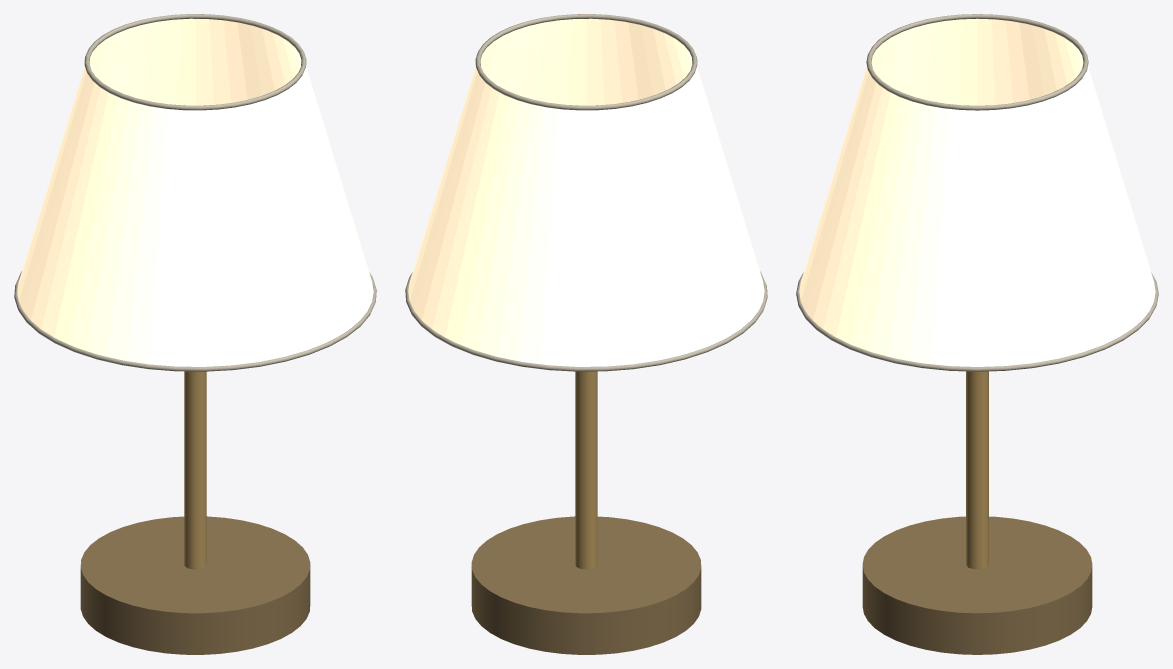
File: lounge-linen-lamp.glb
3 views of the same model, side by side, from view 1: azimuth 30°, elevation 25°; view 2: azimuth 150°, elevation 25°; view 3: azimuth 270°, elevation 25° (orthographic).
Parts seen in each view (by area): view 1: part::lounge-linen-lamp/open-woven-shade-001, part::lounge-linen-lamp/weighted-bronze-lamp-base-001, part::lounge-linen-lamp/lamp-stem-001, part::lounge-linen-lamp/rolled-shade-edge-002, part::lounge-linen-lamp/rolled-shade-edge-001; view 2: part::lounge-linen-lamp/open-woven-shade-001, part::lounge-linen-lamp/weighted-bronze-lamp-base-001, part::lounge-linen-lamp/lamp-stem-001, part::lounge-linen-lamp/rolled-shade-edge-002, part::lounge-linen-lamp/rolled-shade-edge-001; view 3: part::lounge-linen-lamp/open-woven-shade-001, part::lounge-linen-lamp/weighted-bronze-lamp-base-001, part::lounge-linen-lamp/lamp-stem-001, part::lounge-linen-lamp/rolled-shade-edge-002, part::lounge-linen-lamp/rolled-shade-edge-001.
Part boxes in pixels (x1=…): part::lounge-linen-lamp/open-woven-shade-001: x1=17, y1=18, x2=373, y2=366; part::lounge-linen-lamp/weighted-bronze-lamp-base-001: x1=80, y1=516, x2=310, y2=654; part::lounge-linen-lamp/lamp-stem-001: x1=184, y1=371, x2=206, y2=569; part::lounge-linen-lamp/rolled-shade-edge-002: x1=84, y1=14, x2=306, y2=110; part::lounge-linen-lamp/rolled-shade-edge-001: x1=14, y1=271, x2=376, y2=371; part::lounge-linen-lamp/open-woven-shade-001: x1=408, y1=18, x2=764, y2=366; part::lounge-linen-lamp/weighted-bronze-lamp-base-001: x1=471, y1=516, x2=701, y2=654; part::lounge-linen-lamp/lamp-stem-001: x1=575, y1=371, x2=597, y2=569; part::lounge-linen-lamp/rolled-shade-edge-002: x1=475, y1=14, x2=697, y2=110; part::lounge-linen-lamp/rolled-shade-edge-001: x1=405, y1=271, x2=767, y2=371; part::lounge-linen-lamp/open-woven-shade-001: x1=799, y1=18, x2=1155, y2=366; part::lounge-linen-lamp/weighted-bronze-lamp-base-001: x1=862, y1=516, x2=1092, y2=654; part::lounge-linen-lamp/lamp-stem-001: x1=966, y1=371, x2=988, y2=569; part::lounge-linen-lamp/rolled-shade-edge-002: x1=866, y1=14, x2=1088, y2=110; part::lounge-linen-lamp/rolled-shade-edge-001: x1=796, y1=272, x2=1158, y2=371.
Size of the model in its own units: 0.284 by 0.472 by 0.284.
